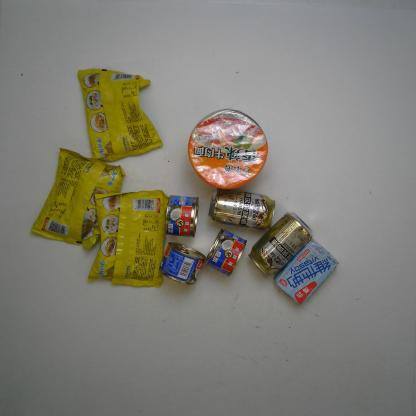Alcohol: (244, 209, 316, 280), (205, 185, 284, 233)
Canned Food: (204, 224, 250, 279), (158, 240, 207, 286), (158, 192, 203, 239)
Instant Noodles: (28, 146, 128, 254), (85, 186, 176, 288), (76, 63, 166, 164), (186, 106, 272, 192)
Milk: (272, 238, 343, 308)
